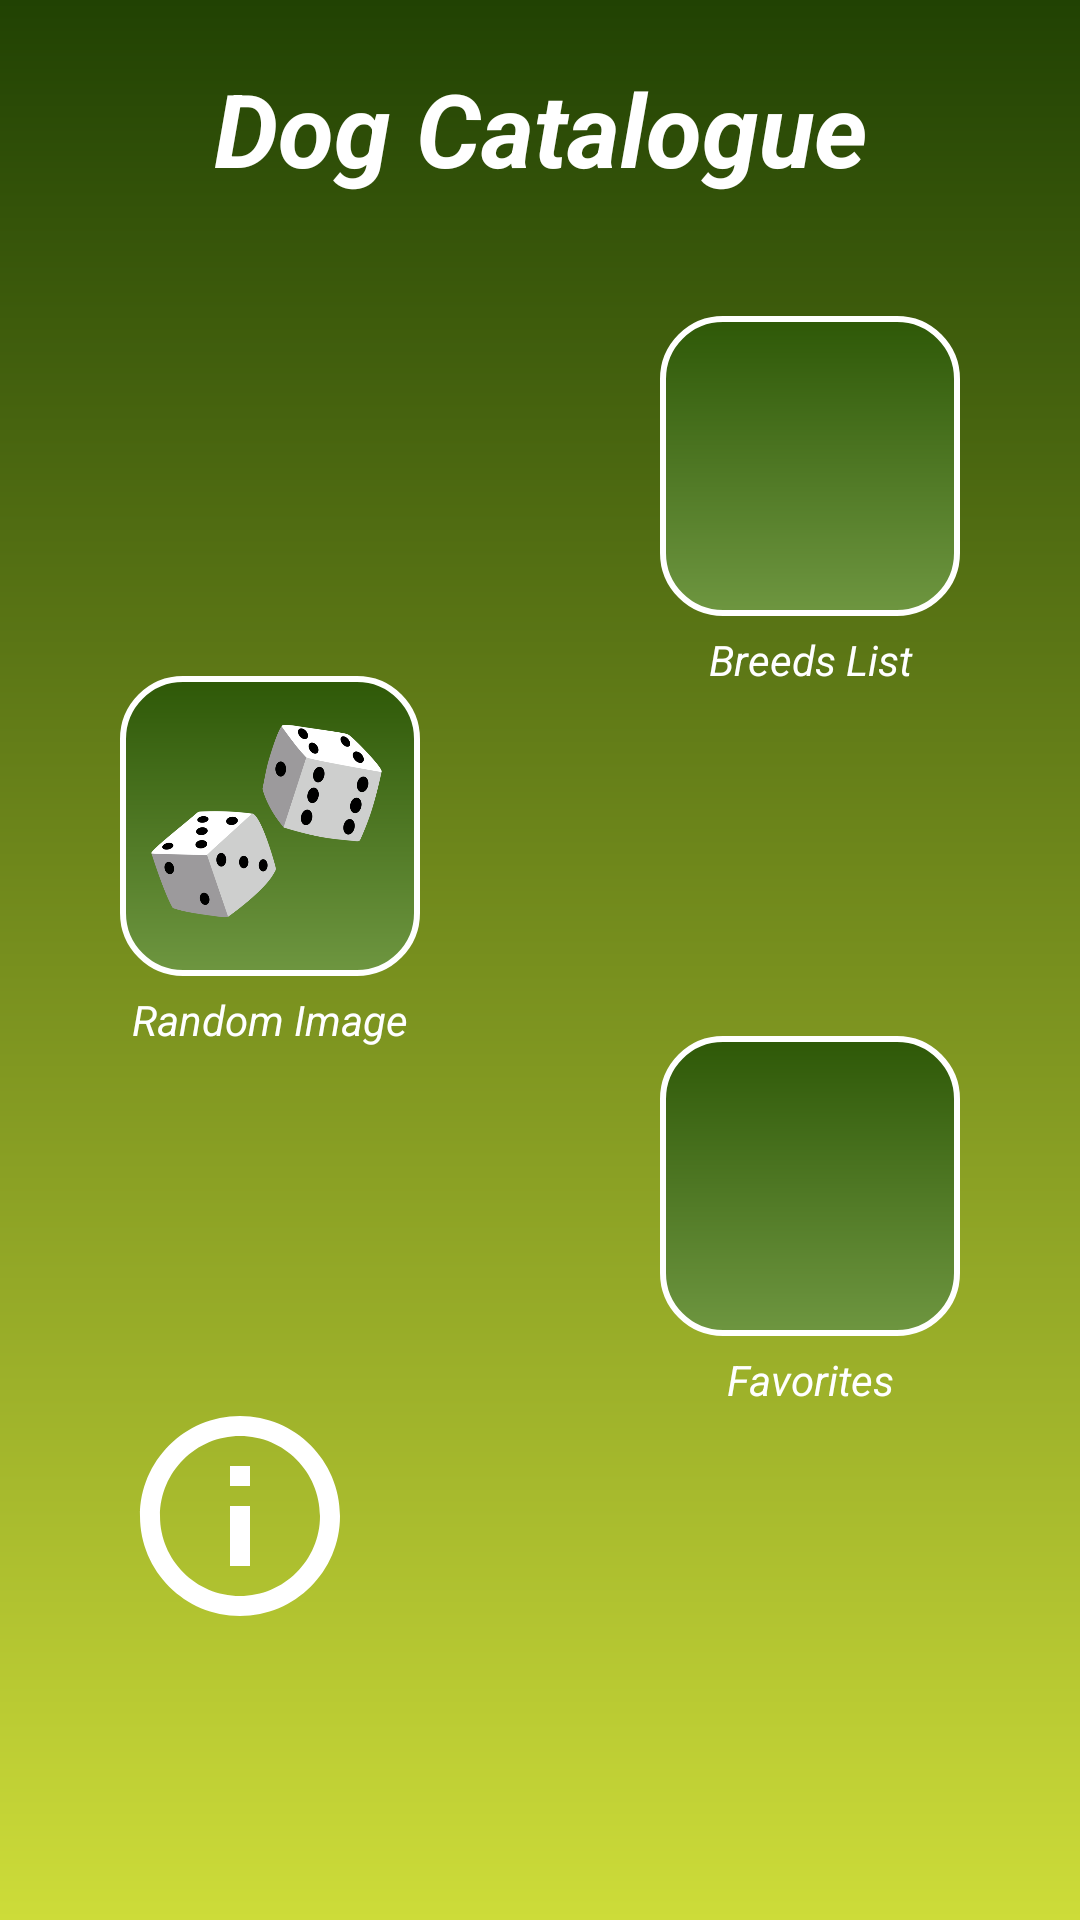

Screen size 1080 x 1920. Icon name, then its center in pixels as (x=x, y=y):
dice: (x=270, y=826)
info: (x=240, y=1506)
